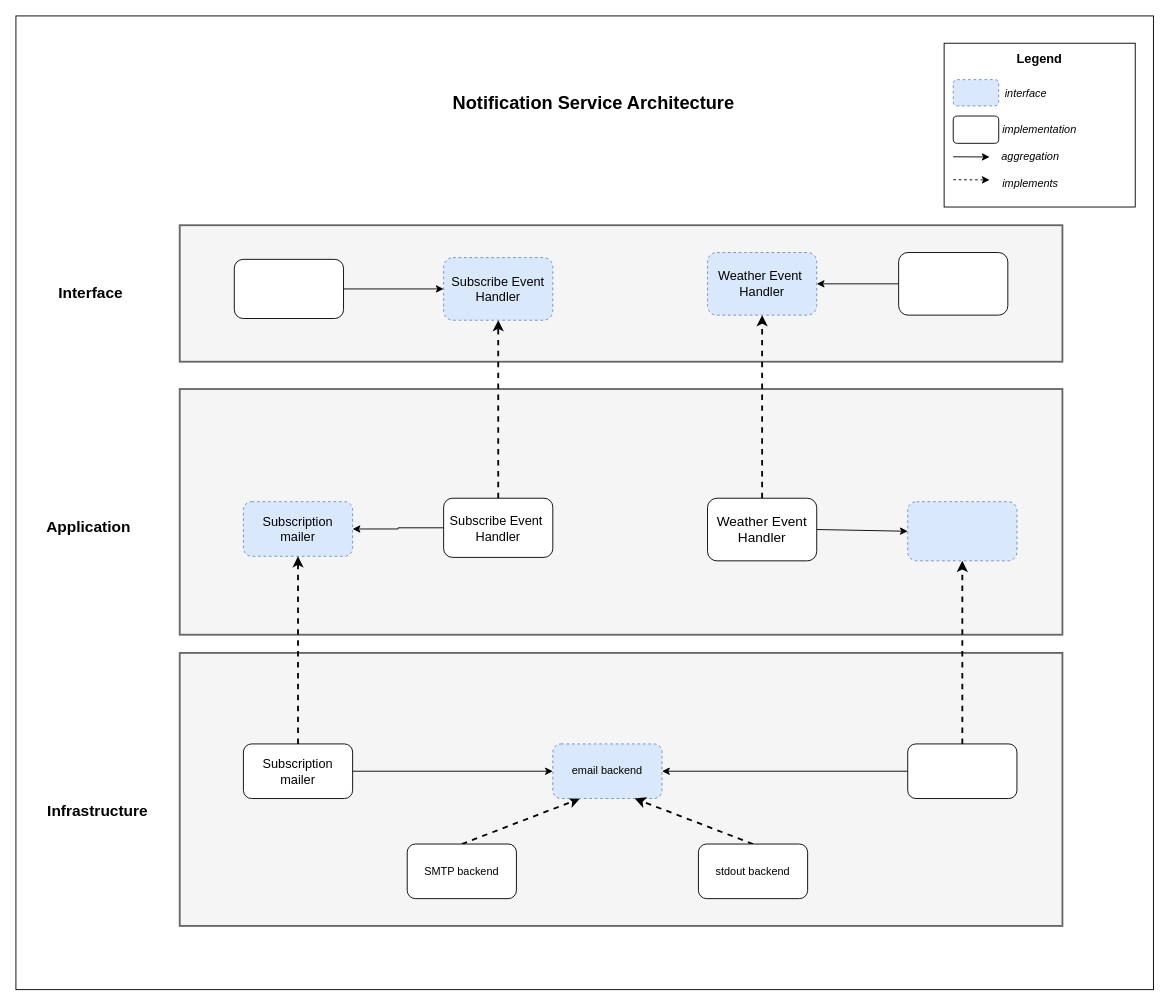
Image size: 1169x1006. Some labels were removed from this diagram. The shapes that lost their labels are listed below. From the top down, each one's centre as x and y in pixels, then its label:
the point at 288,288: Subscribe Event Consumer
the point at 953,283: Weather Event Consumer
the point at 962,531: Wather Mailer
the point at 962,771: Weather mailer
